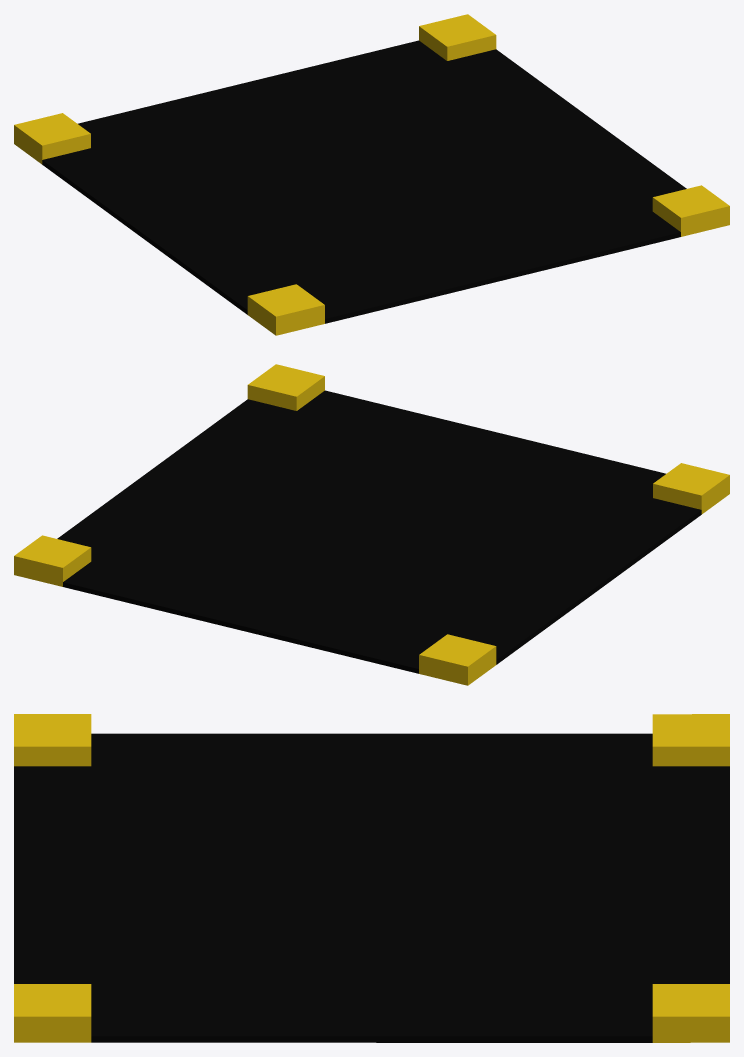
File: CrossRoad_MD.fbx
3 views of the same model, one above another, from view 1: azimuth 30°, elevation 25°; view 2: azimuth 150°, elevation 25°; view 3: azimuth 270°, elevation 25° (orthographic). The views are drawn at different scales.
Visible parts, largest first — view 1: Crossroad; view 2: Crossroad; view 3: Crossroad.
Part boxes in pixels (left/top/right/bottom): Crossroad: left=14, top=14, right=729, bottom=335; Crossroad: left=14, top=364, right=729, bottom=685; Crossroad: left=14, top=714, right=729, bottom=1042.
Size of the model in its own units: 100 by 4.03 by 100.
